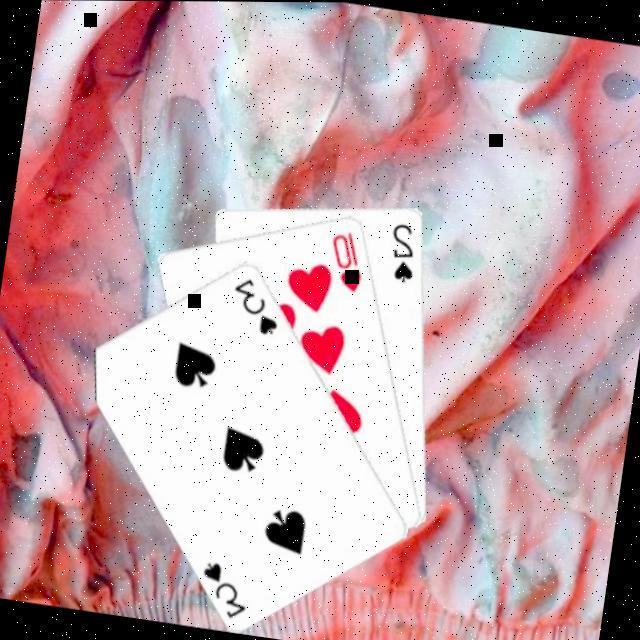10H: (321, 226, 371, 297)
2S: (381, 219, 423, 288)
3S: (224, 274, 287, 341), (193, 557, 255, 624)
